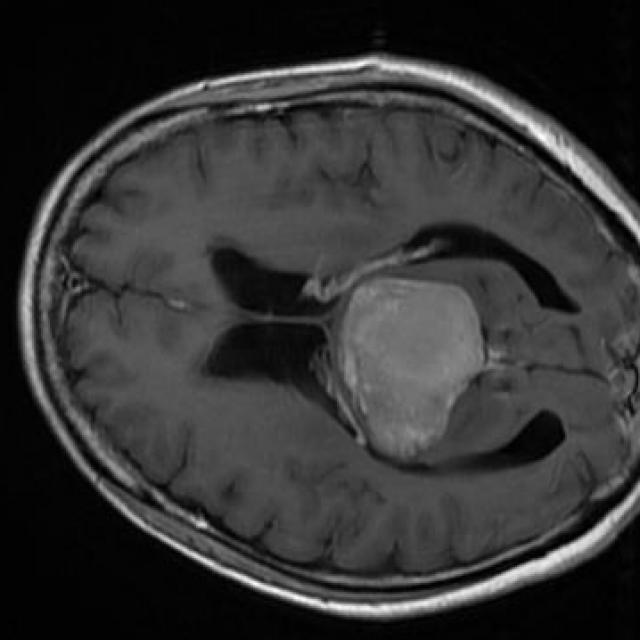meningioma: (339, 278, 488, 455)
